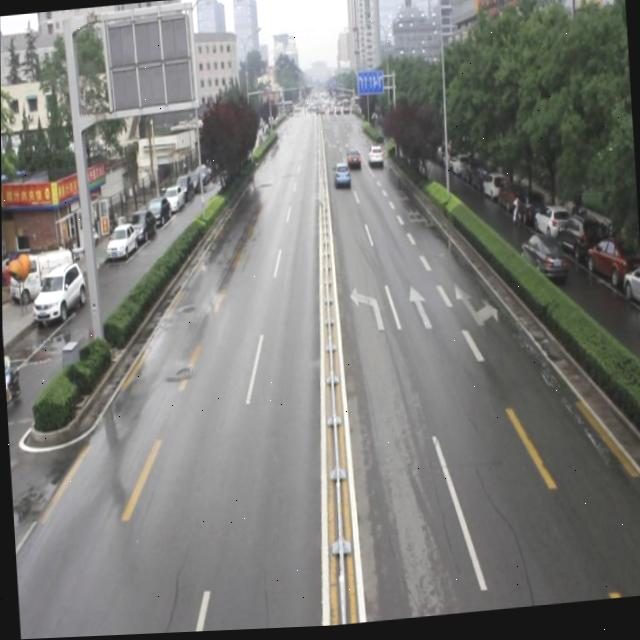car: (331, 162, 350, 191), (366, 146, 383, 169), (345, 153, 361, 172)
